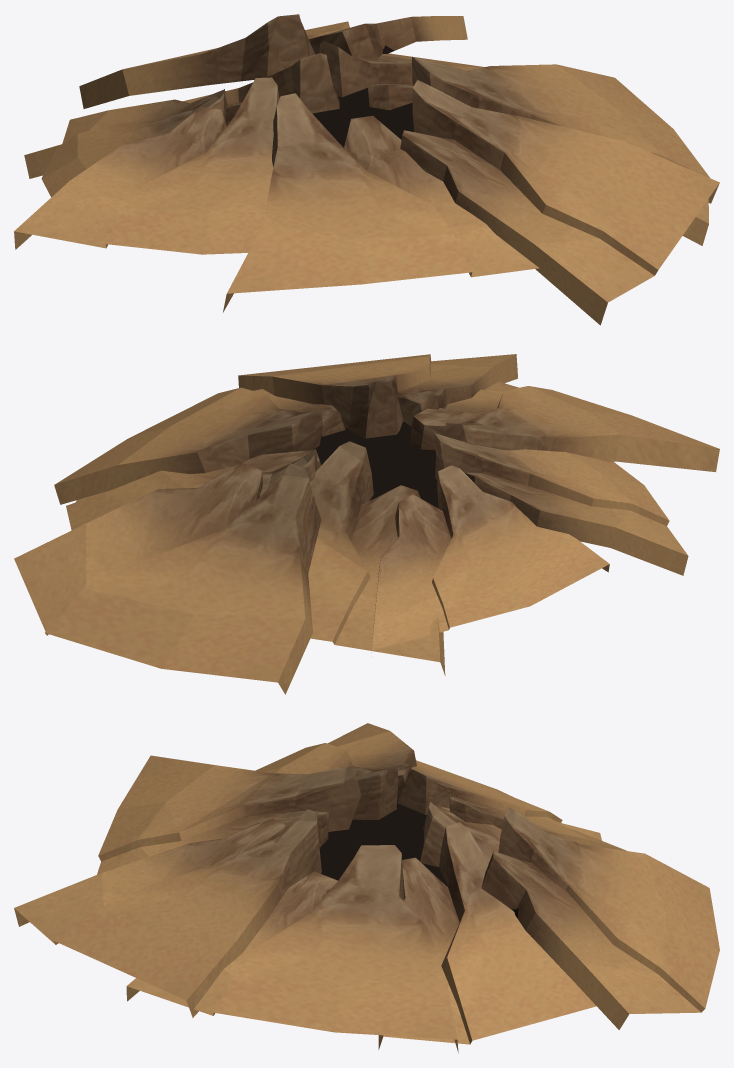
Rendered from yw_shamo_chongdong_001.FBX.
3 renders of one model, top to bottom at view 1: azimuth 30°, elevation 25°; view 2: azimuth 150°, elevation 25°; view 3: azimuth 270°, elevation 25°, orthographic. The views are drawn at different scales.
Parts seen in each view (by area): view 1: yw_shamo_chongdong_001; view 2: yw_shamo_chongdong_001; view 3: yw_shamo_chongdong_001.
Boxes of the visible parts, <box> form: yw_shamo_chongdong_001: <box>14,14,719,325</box>; yw_shamo_chongdong_001: <box>14,354,719,694</box>; yw_shamo_chongdong_001: <box>14,723,719,1053</box>.
Size of the model in its own units: 849 by 907 by 205.
